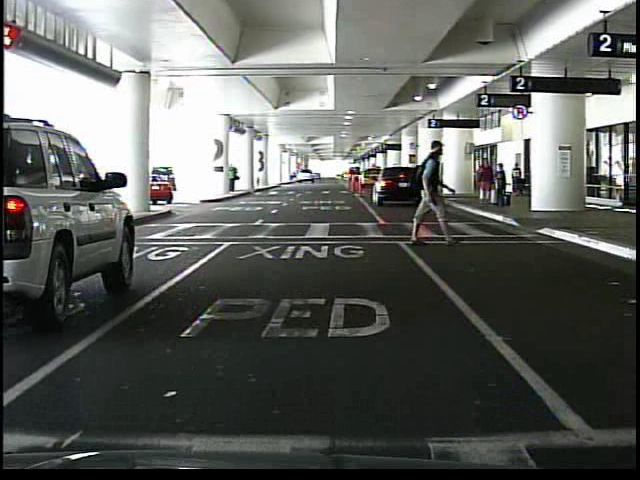person: (397, 143, 471, 247), (473, 158, 496, 203), (496, 162, 511, 206), (512, 162, 522, 194), (229, 164, 239, 193)
